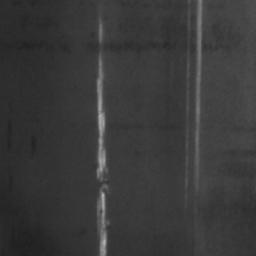Bright scratch: (195, 0, 204, 191), (96, 54, 108, 180), (97, 186, 108, 256), (99, 22, 104, 44)
